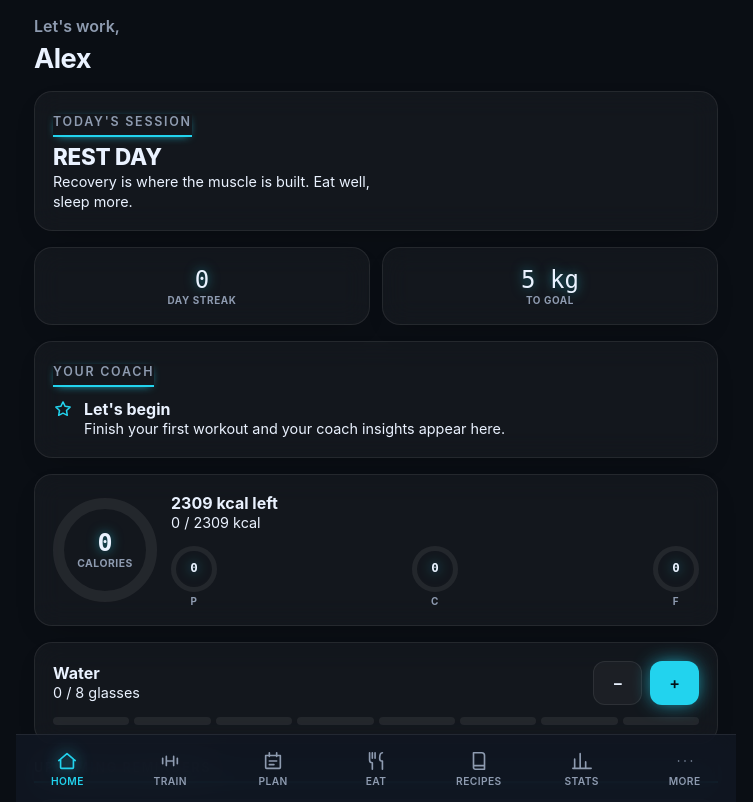
Test: app shell › navigates between screens
What coordinates should you click on to do the following:
click the link "Train"
I would click on:
 (170, 768)
Its box is [154,750,187,787].
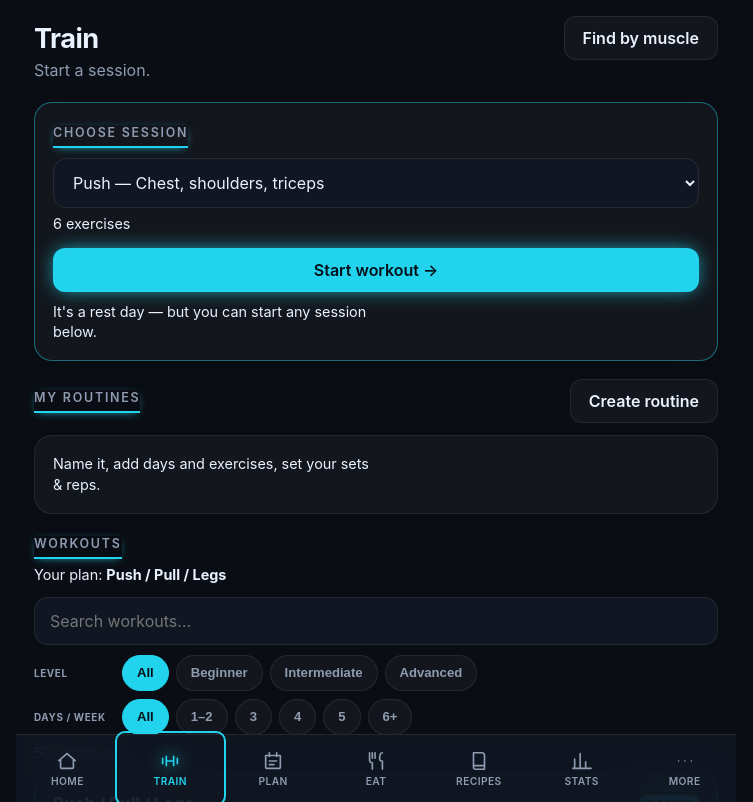
Expected: the heading "Train" is shown, [34,22,99,54]
